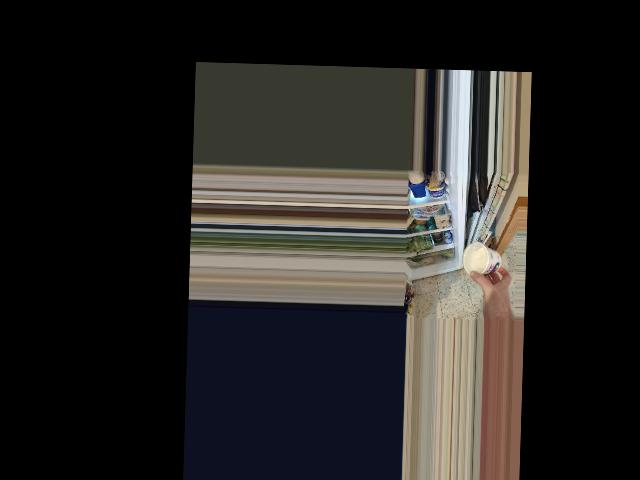cotage: (463, 244, 503, 279)
